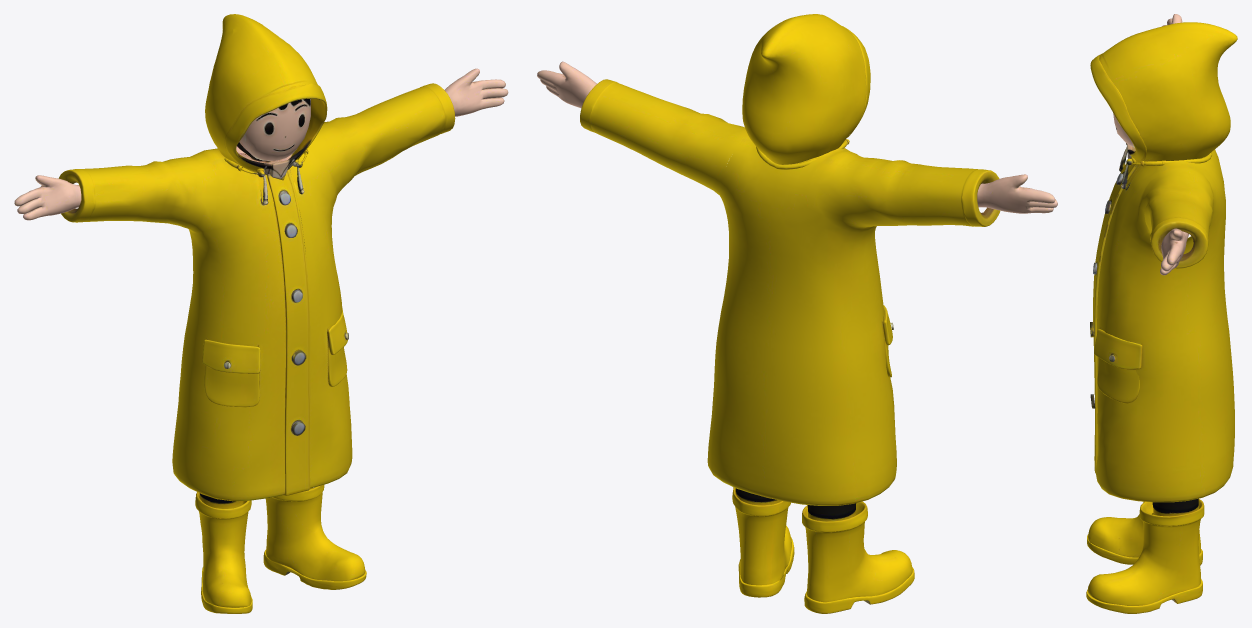
The model's file is toonstudio_raincoat.glb.
3 renders of one model, left to right at view 1: azimuth 30°, elevation 25°; view 2: azimuth 150°, elevation 25°; view 3: azimuth 270°, elevation 25°, orthographic. The views are drawn at different scales.
Parts seen in each view (by area): view 1: tripo_4f2a186e_28b2_4343_96a3_0f8f07fc135d; view 2: tripo_4f2a186e_28b2_4343_96a3_0f8f07fc135d; view 3: tripo_4f2a186e_28b2_4343_96a3_0f8f07fc135d.
Boxes of the visible parts, x1=… form: tripo_4f2a186e_28b2_4343_96a3_0f8f07fc135d: x1=14, y1=14, x2=508, y2=613; tripo_4f2a186e_28b2_4343_96a3_0f8f07fc135d: x1=537, y1=14, x2=1057, y2=613; tripo_4f2a186e_28b2_4343_96a3_0f8f07fc135d: x1=1086, y1=14, x2=1237, y2=613.
Size of the model in its own units: 1.59 by 1.7 by 0.4194.
Materials: 1 (1 with a texture image).
